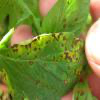Tomato Septoria leaf spot: (0, 35, 87, 95)
